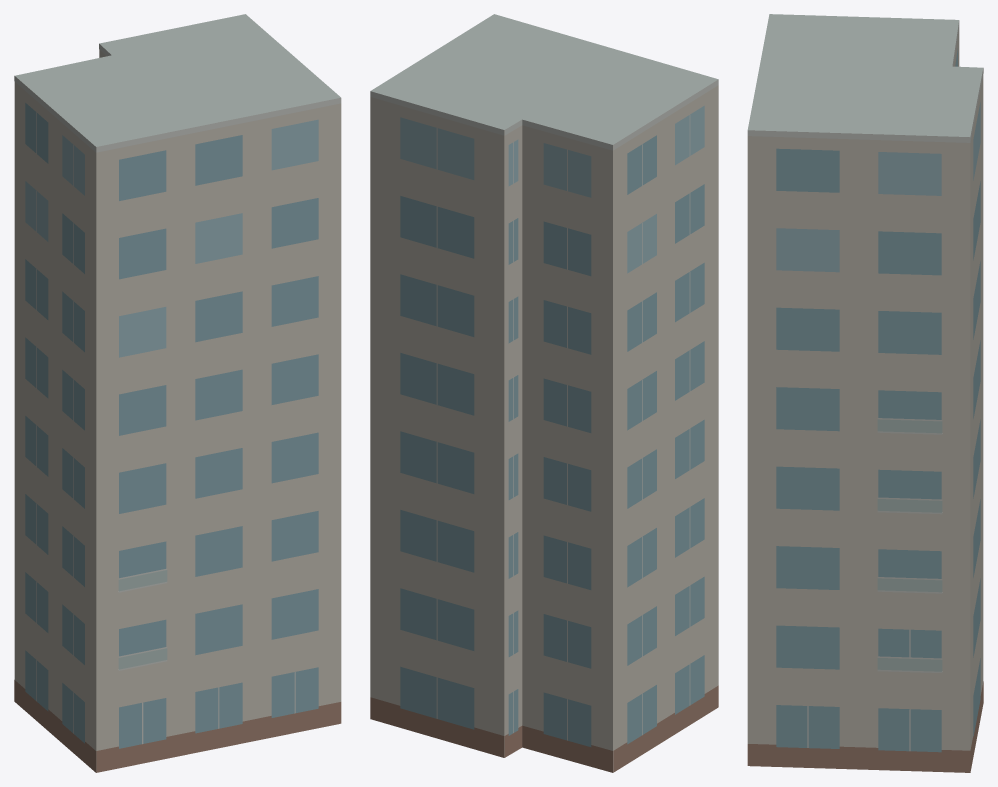
Rendered from survey-upis-33044326.glb.
3 views of the same model, side by side, from view 1: azimuth 30°, elevation 25°; view 2: azimuth 150°, elevation 25°; view 3: azimuth 270°, elevation 25° (orthographic).
Parts seen in each view (by area): view 1: survey-upis-33044326.tmp; view 2: survey-upis-33044326.tmp; view 3: survey-upis-33044326.tmp.
Part boxes in pixels (bbox=[...]): survey-upis-33044326.tmp: bbox=[14, 14, 341, 772]; survey-upis-33044326.tmp: bbox=[370, 14, 718, 772]; survey-upis-33044326.tmp: bbox=[747, 14, 983, 772].
Bounding box in the file's own units: 11.14 × 26.8 × 9.02.
